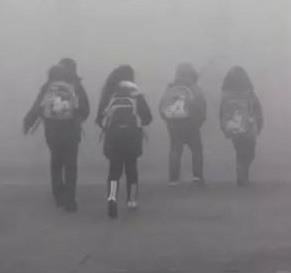person: (23, 55, 91, 212), (96, 62, 154, 219), (158, 61, 212, 185), (217, 64, 266, 187)
